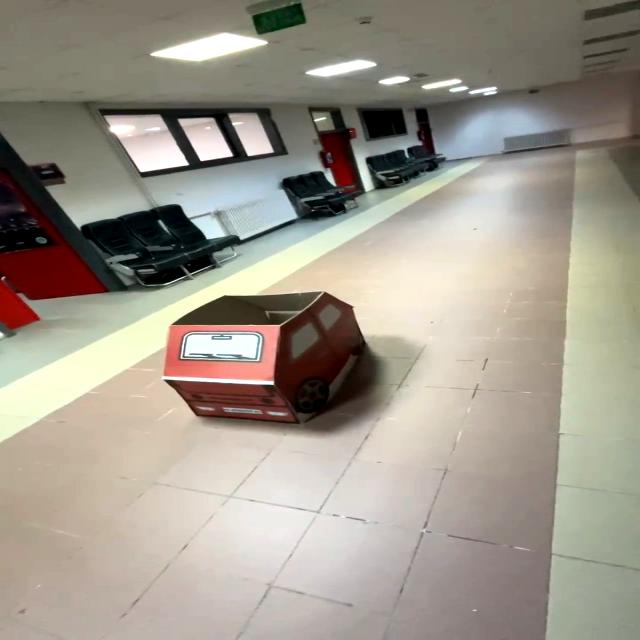red_car: (137, 270, 382, 446)
